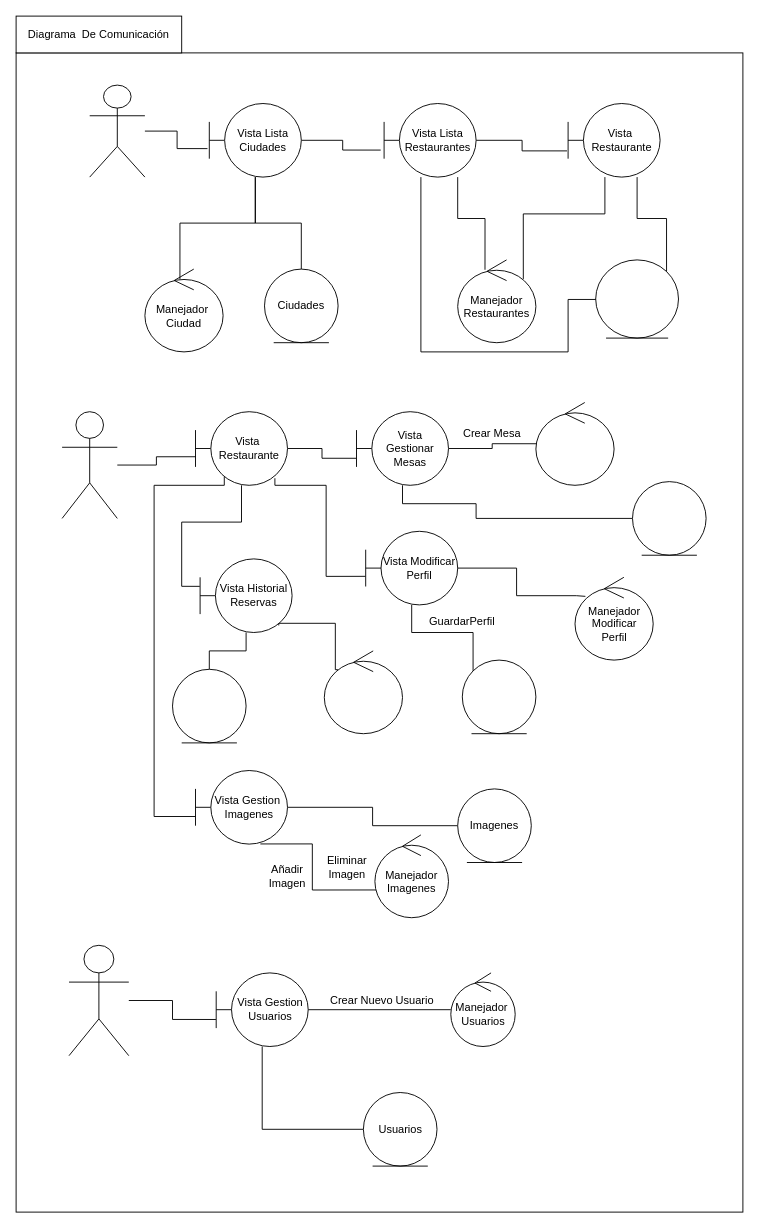
Some shapes in this 759 by 1228 pixel diagram are drawn without their labels. Here are the shapes that lost their labels. From the top down, the box of each, then its label:
(89, 84, 145, 177): Usuario Comensal
(595, 259, 678, 338): Restaurantes
(535, 402, 614, 485): Manejador Editar Mesas
(61, 411, 117, 518): Usuario Restaurante
(632, 481, 706, 555): Mesas
(172, 668, 246, 743): Historial Reservas
(323, 650, 402, 734): Manejador Historial Reservas
(461, 659, 536, 734): Perfiles
(68, 944, 129, 1056): Usuario Administrador
